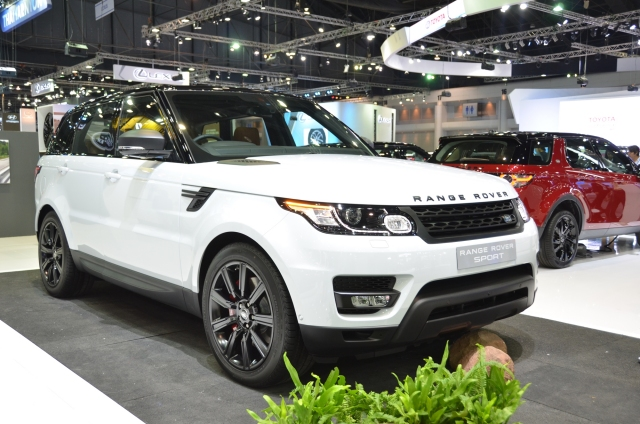pickup: (35, 95, 537, 389)
